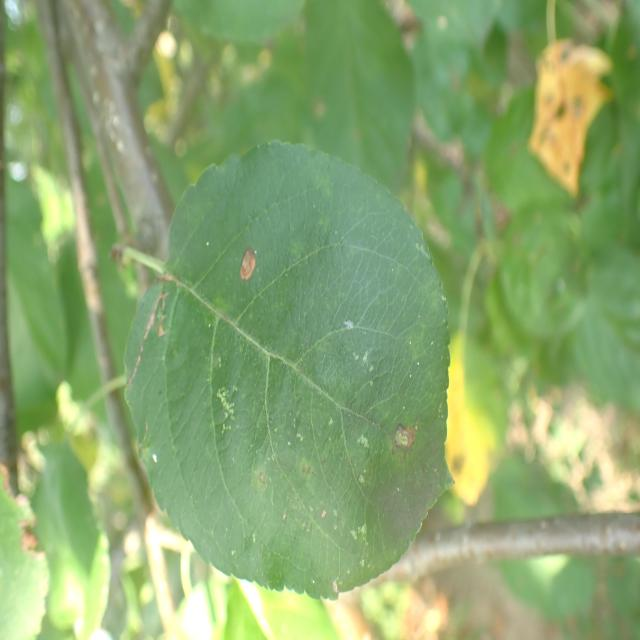frog-eye-leaf-spot: (122, 140, 454, 604)
